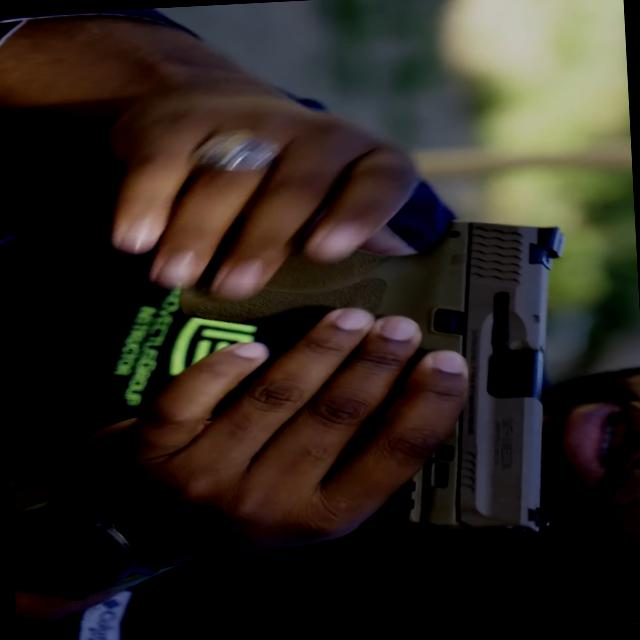handgun: (143, 186, 624, 558)
